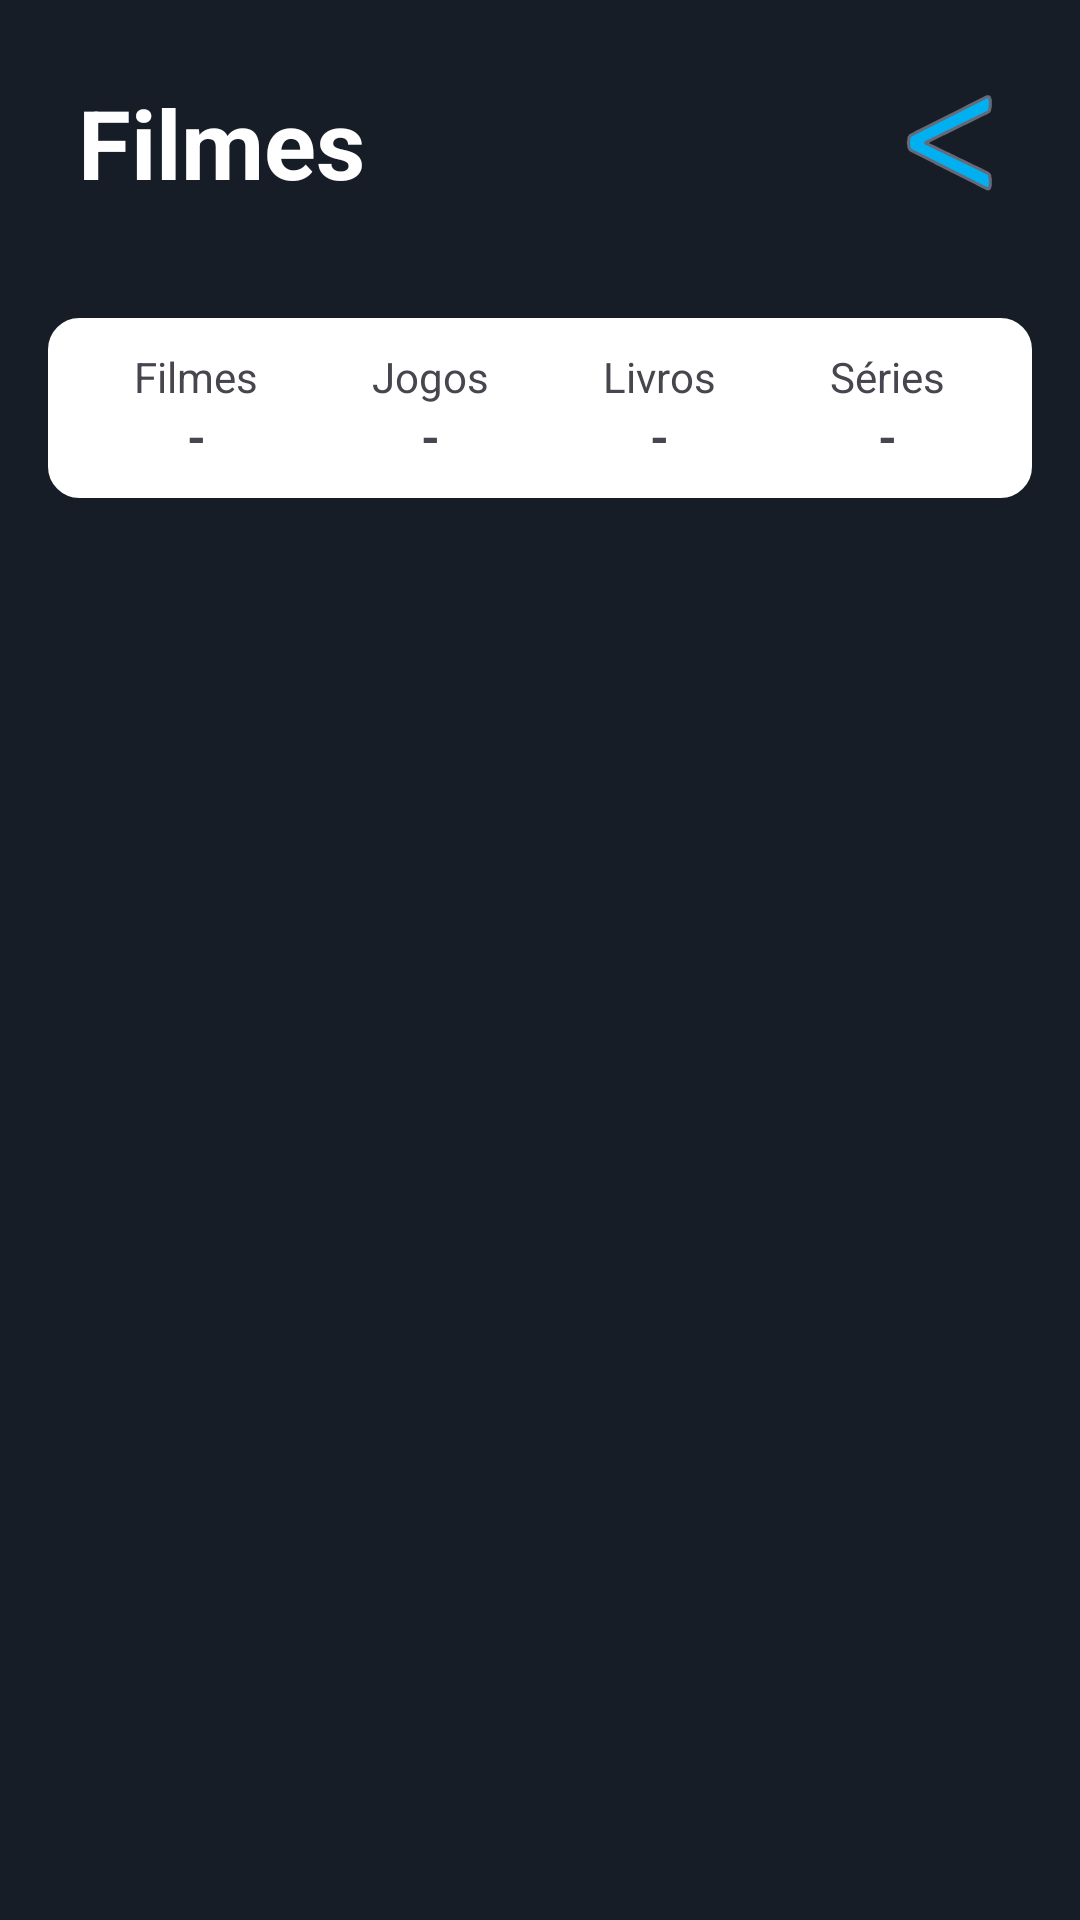

Named icons in this screenshot (1080px x 1920px) and their centers, [x,y]:
arrow: [949,143]
